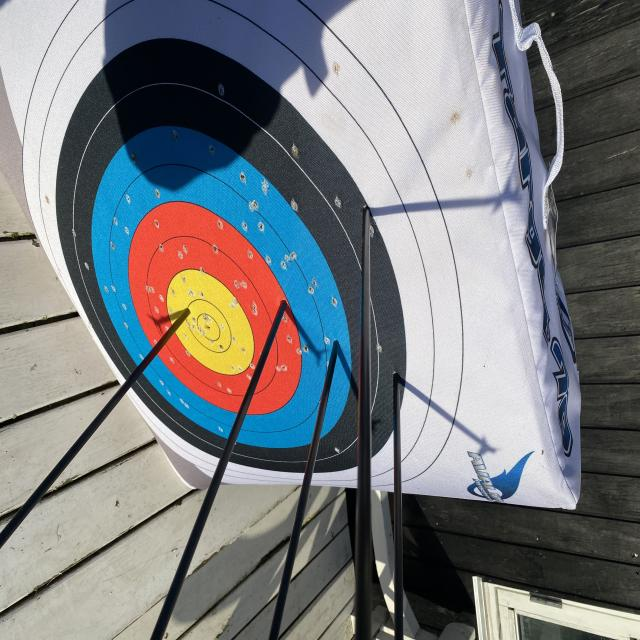Arrow_Black: (356, 196, 391, 236), (390, 363, 407, 400)
Arrow_Blue: (327, 330, 352, 370)
Arrow_Red: (270, 291, 299, 327)
Arrow_Yellow: (174, 304, 204, 333)
